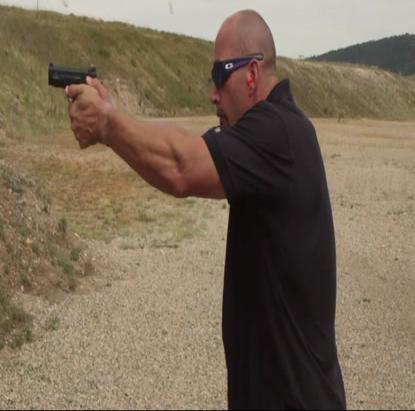pistol: (45, 64, 101, 145)
